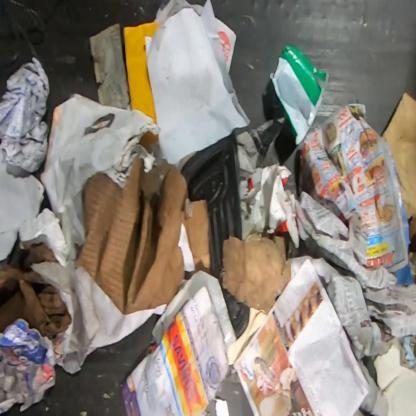cardboard: (76, 157, 210, 315), (0, 230, 72, 341), (381, 91, 416, 269), (223, 234, 292, 313)
rigid_plastic: (179, 134, 251, 341), (269, 44, 330, 144)
